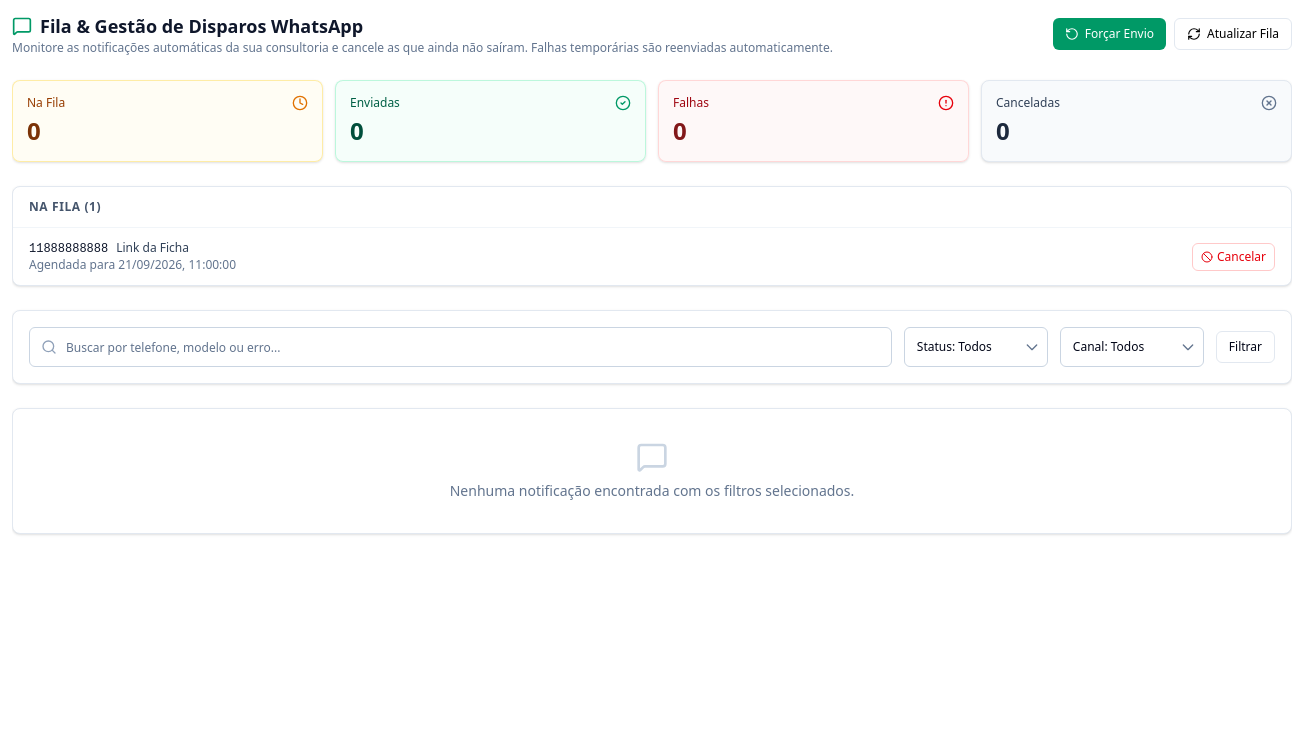
Test: WhatsAppQueueManager › lists pending jobs and cancels one by its job id
Expected: the text "11888888888" is shown, top-left (29, 242), bottom-right (108, 256)
Expected: the text "Link da Ficha" is shown, top-left (116, 239), bottom-right (189, 256)
Click the button "Cancelar" at (1234, 256), box top-left (1192, 242), bottom-right (1275, 270)
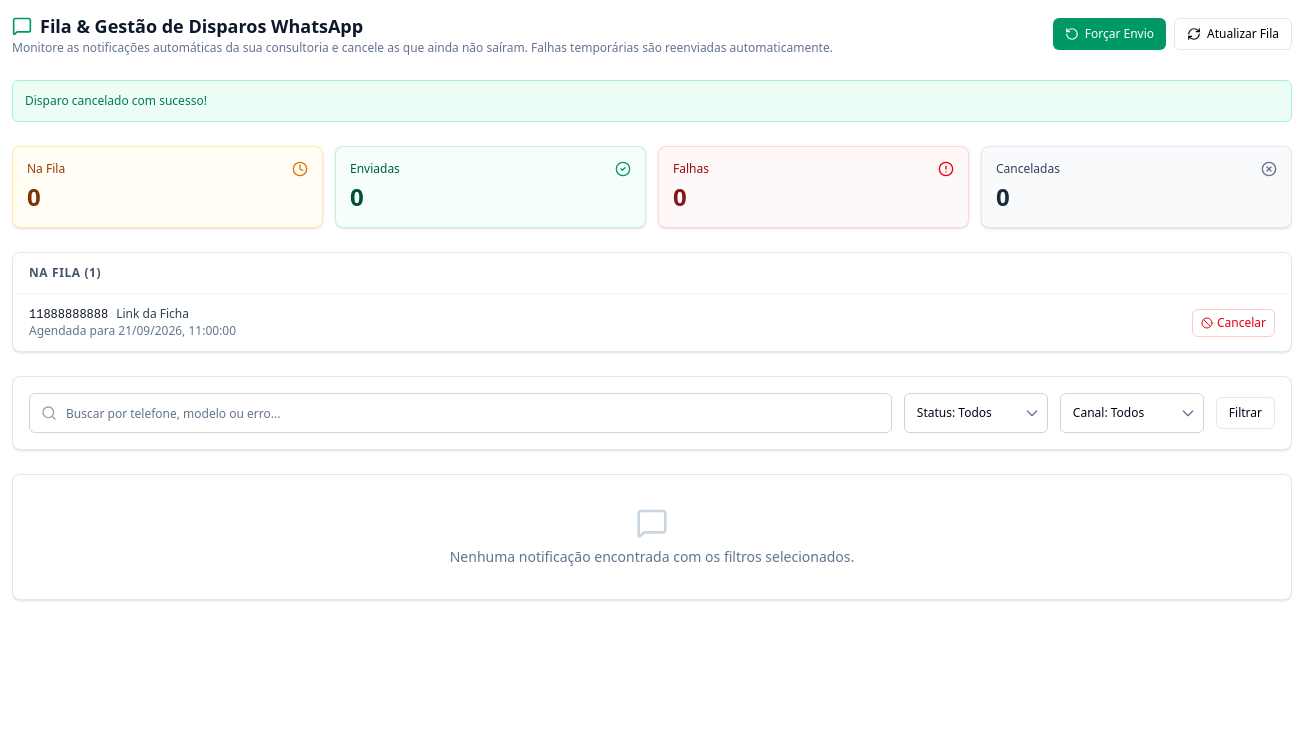
Expected: the text "Disparo cancelado com sucesso!" is shown, top-left (12, 80), bottom-right (1292, 122)
